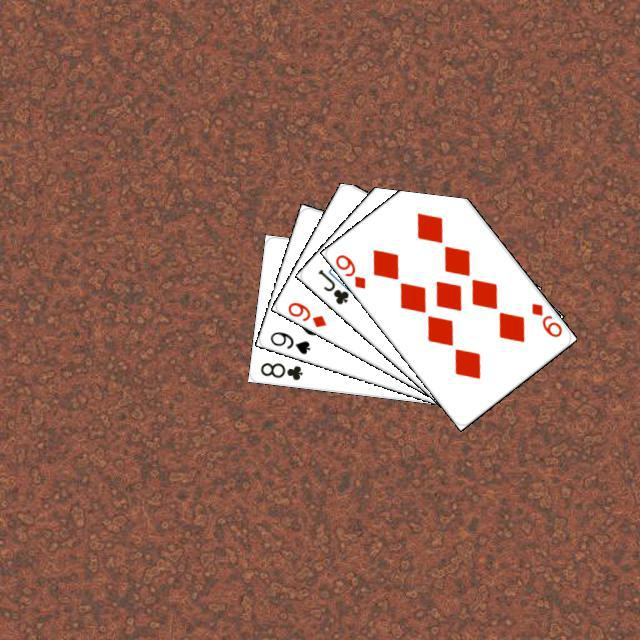8c: (255, 357, 305, 382)
9d: (330, 249, 368, 291), (526, 298, 564, 339), (283, 297, 328, 329)
9s: (265, 327, 312, 356)
Jc: (313, 264, 351, 306)
